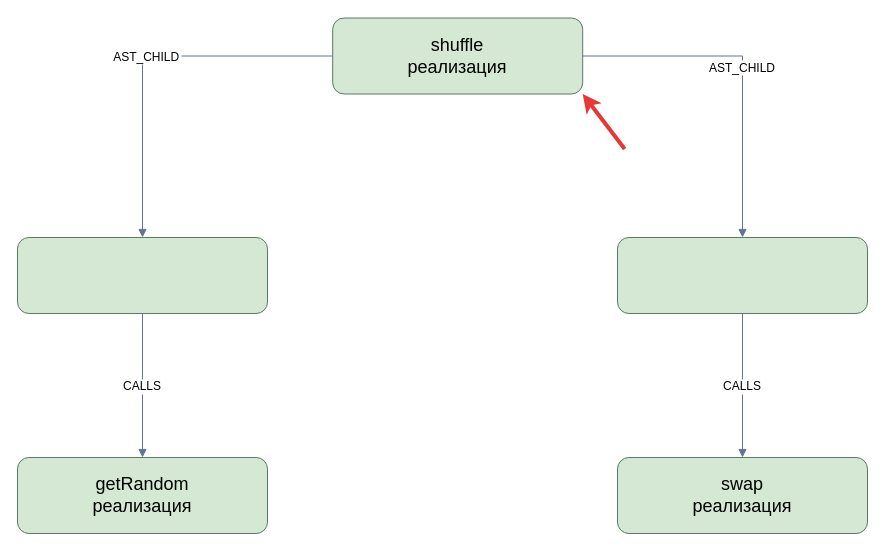
The diagram is 885 pixels wide and 551 high, and some of its shapes have lost their labels. Each missing label, with the centre of its shape:
"getRandom вызов" goes at pixel 142 275.
"swap вызов" goes at pixel 742 275.
